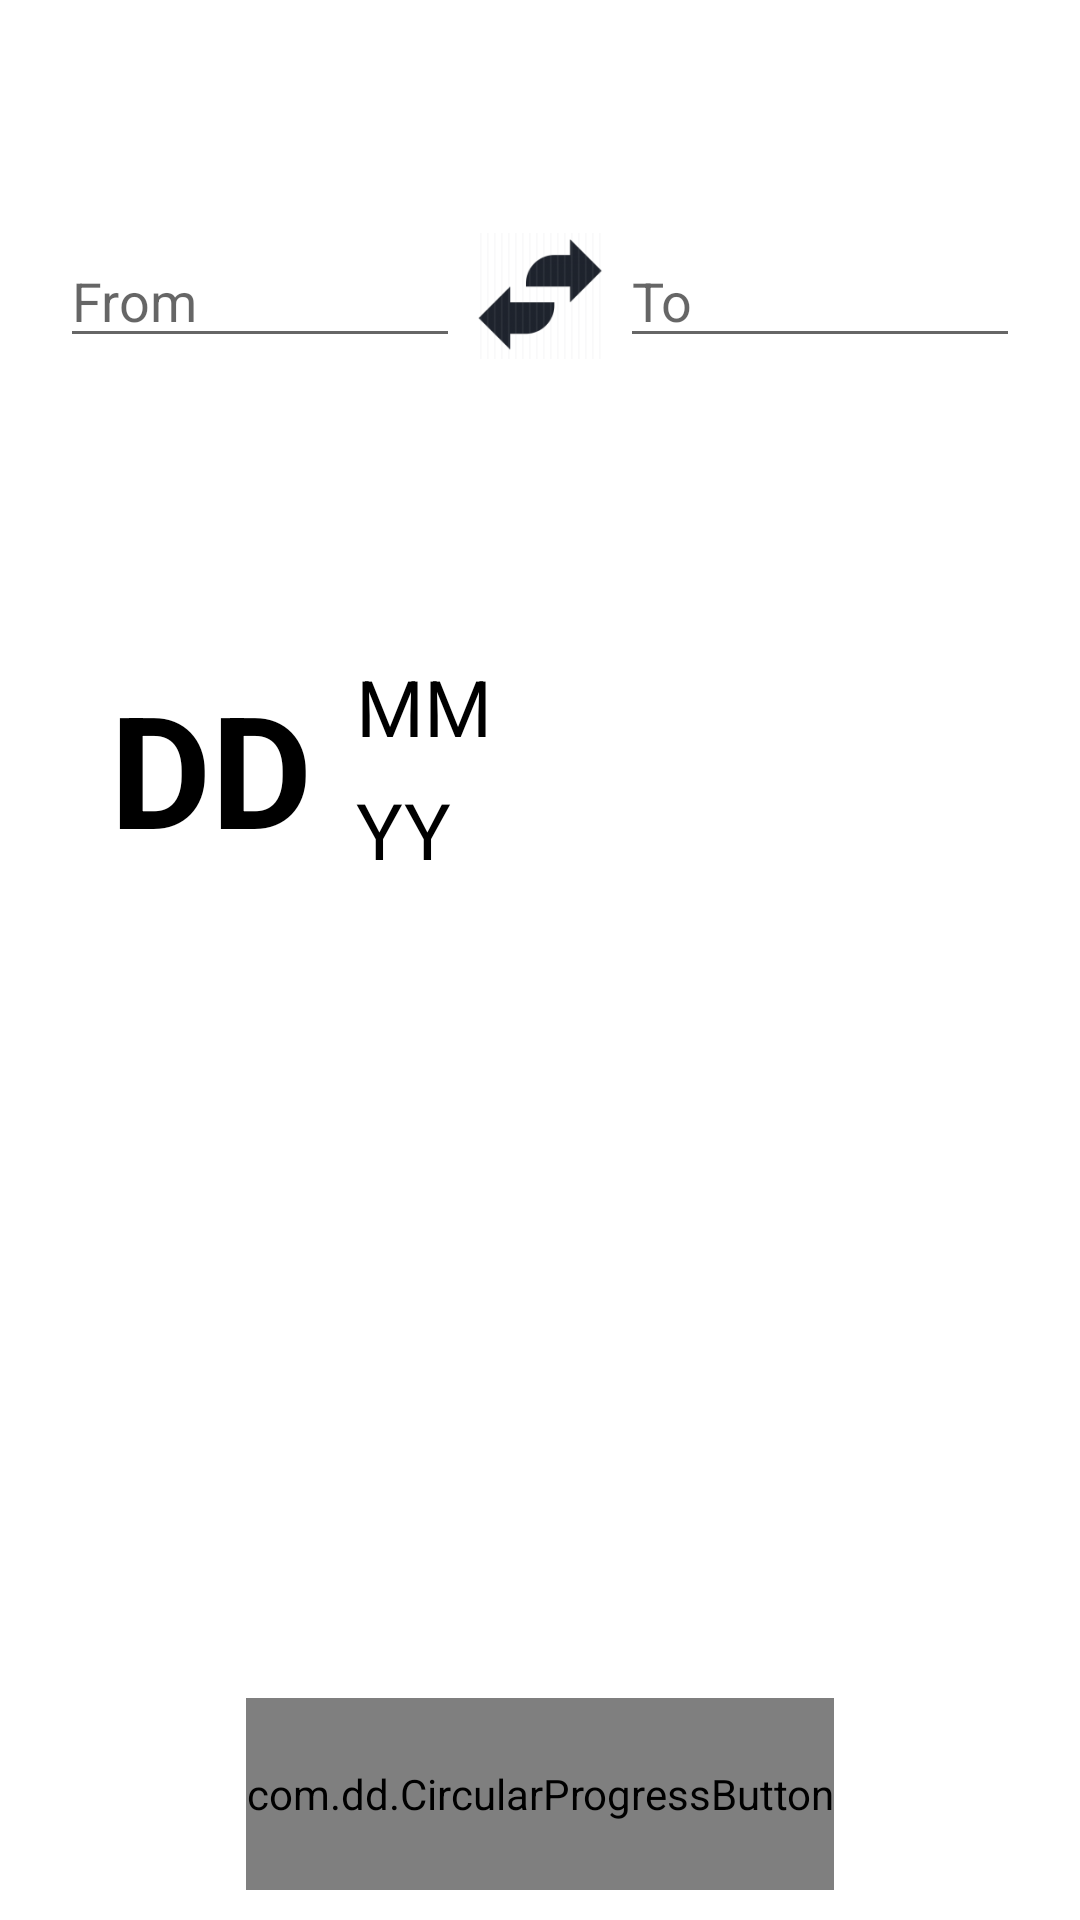

Where icons sit on this 1080x1920 app screen, as (x1, y1, x2, y2):
reverse: (478, 239, 602, 350)
